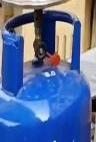cylinder: (1, 0, 96, 142)
